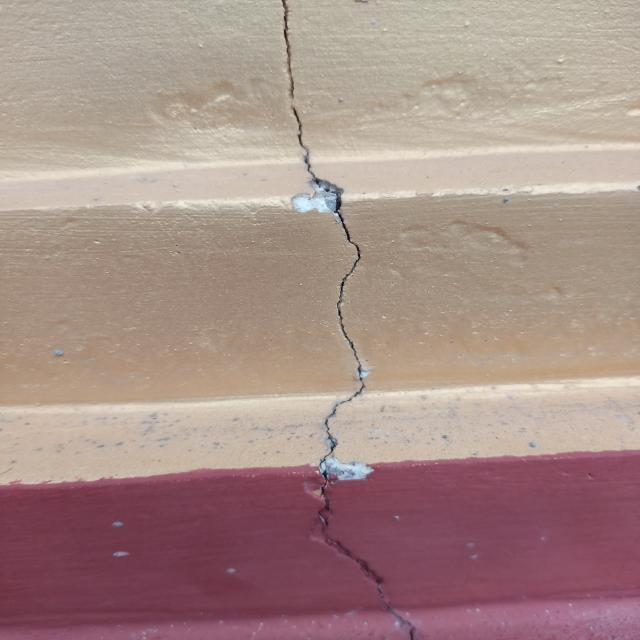vertical cracks: (281, 0, 413, 639)
